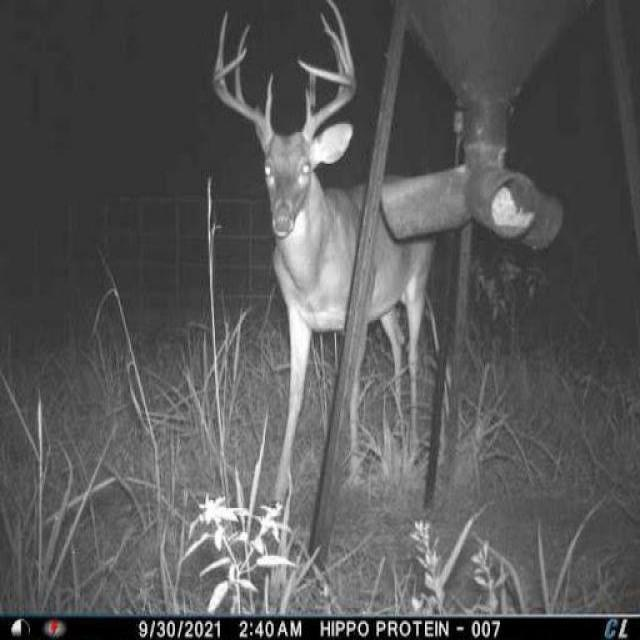deer: (211, 0, 448, 503)
